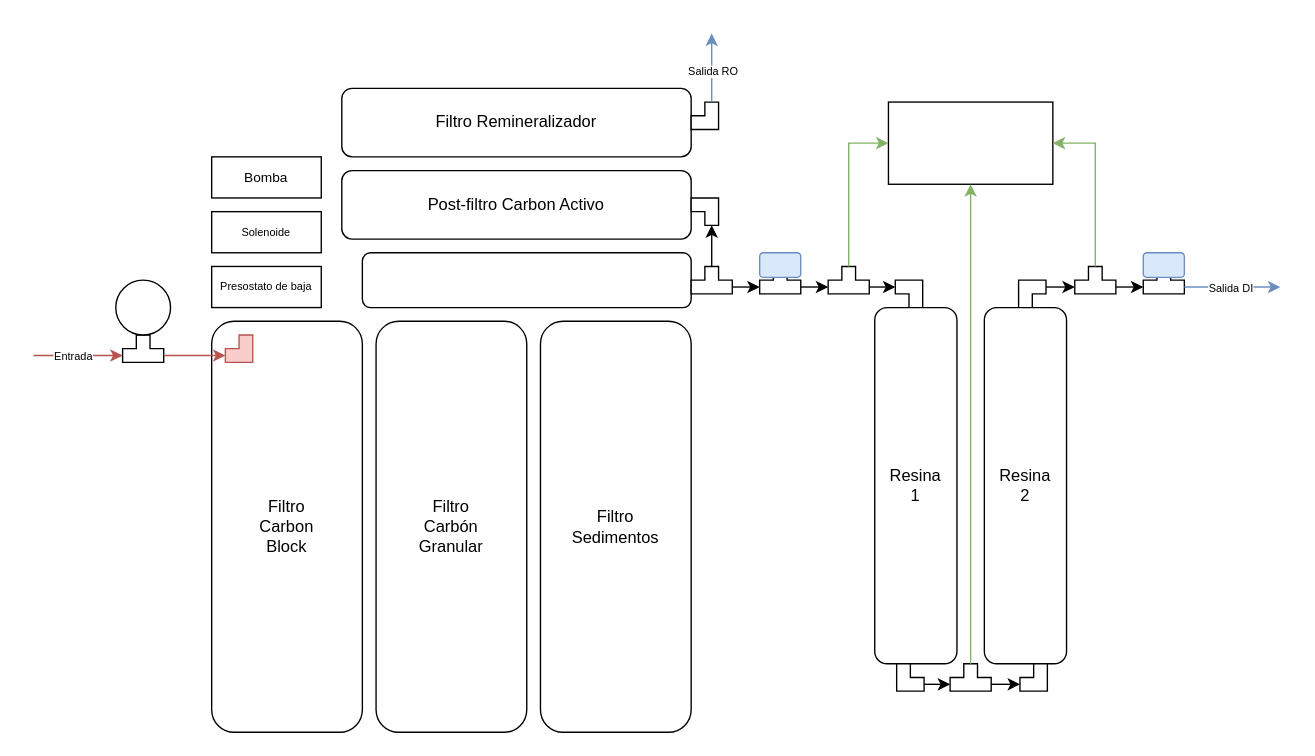
Image size: 1315x756. Some labels were removed from this diagram. The centre of each missing label's shape, as x and y in pixels:
"Manómetro" belongs at (x=142, y=307).
"Membrana Osmosis Inversa" belongs at (x=526, y=279).
"Monitor TDS" belongs at (x=970, y=142).
